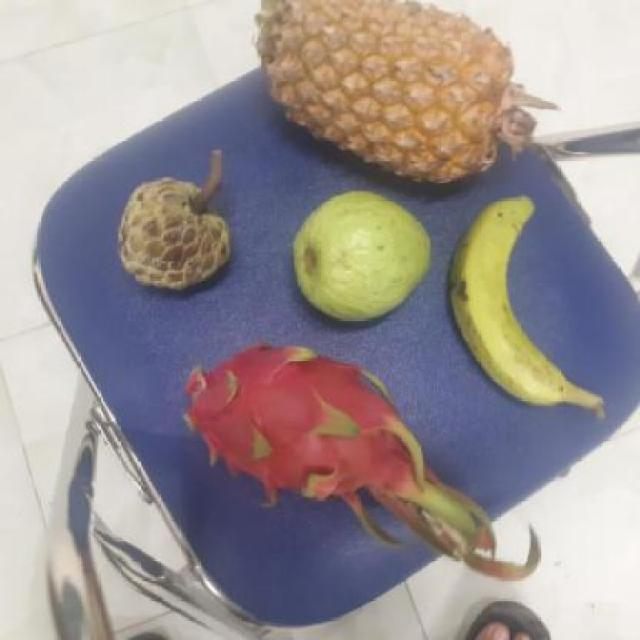banana: (442, 195, 582, 410)
dragon fruit: (175, 344, 422, 505)
guava: (287, 192, 435, 322)
sugar apple: (114, 172, 231, 294)
